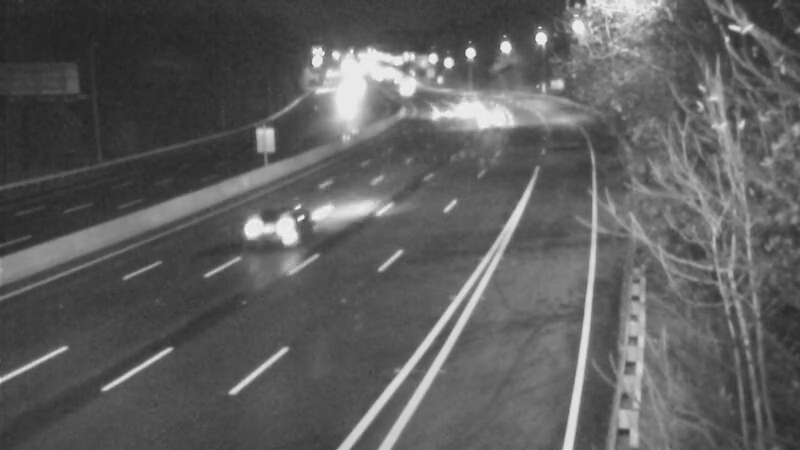vehicle: (238, 180, 318, 260), (376, 61, 426, 111), (443, 78, 493, 128), (414, 86, 464, 136), (462, 97, 512, 147)
